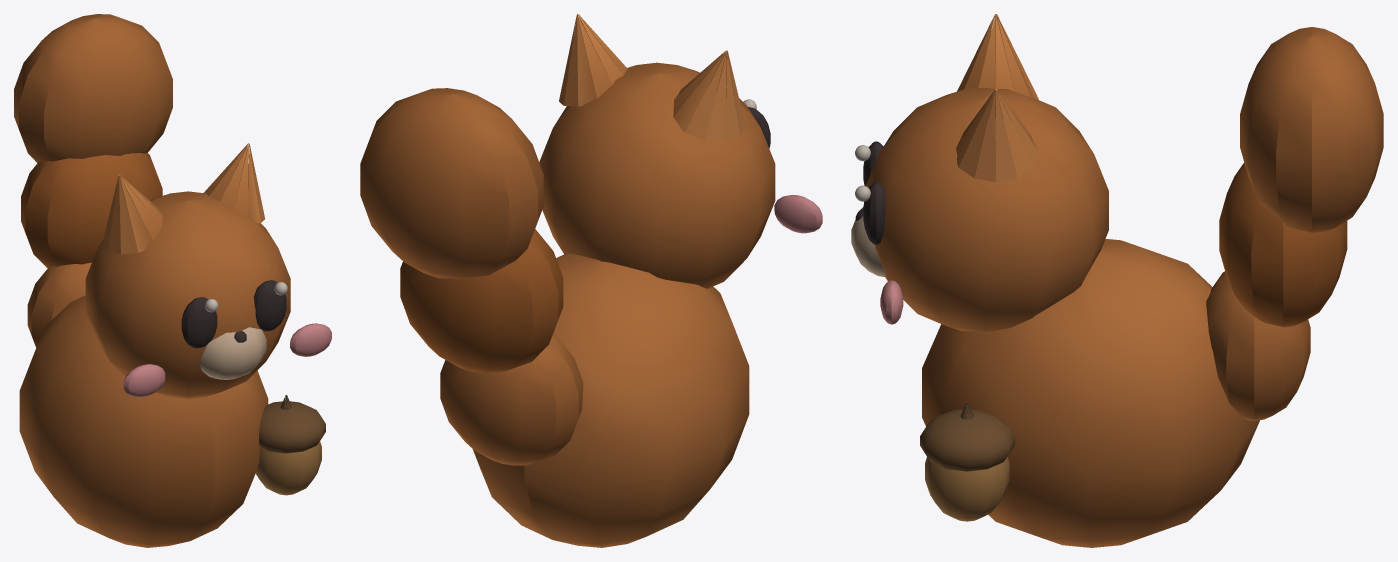
3 views of the same model, side by side, from view 1: azimuth 30°, elevation 25°; view 2: azimuth 150°, elevation 25°; view 3: azimuth 270°, elevation 25° (orthographic). The views are drawn at different scales.
Visible parts, largest first — view 1: pet_p53be56a2; view 2: pet_p53be56a2; view 3: pet_p53be56a2.
Boxes of the visible parts, x1,y1,x2,y2 form: pet_p53be56a2: (14, 14, 331, 547); pet_p53be56a2: (360, 14, 822, 547); pet_p53be56a2: (851, 14, 1383, 547).
Bounding box in the file's own units: 0.3298 × 0.604 × 0.5565.
